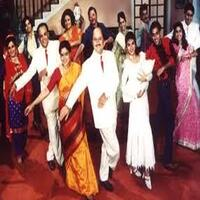person: (84, 22, 118, 59), (122, 34, 150, 72), (52, 39, 79, 76), (33, 20, 56, 51), (148, 21, 170, 53), (170, 19, 190, 53), (60, 8, 79, 40), (7, 28, 22, 64), (184, 3, 197, 32)
